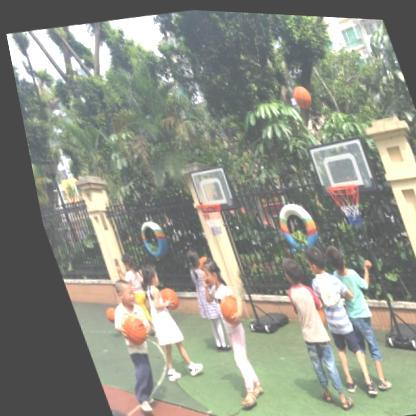basketball: (105, 311, 138, 347), (146, 285, 170, 311), (287, 82, 310, 107)
rim: (318, 177, 364, 226), (187, 199, 222, 235)
